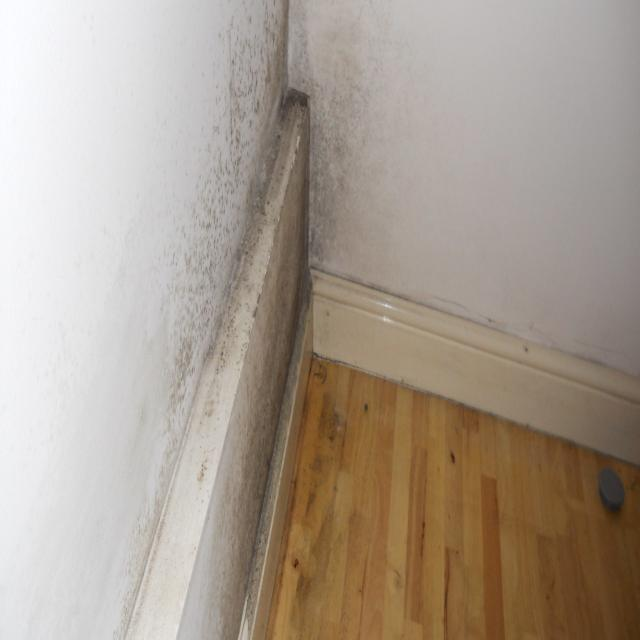dampness: (174, 0, 378, 614)
